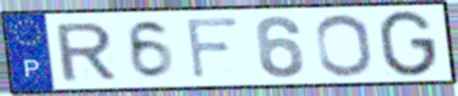6: (252, 14, 305, 80), (124, 19, 177, 80)
F: (183, 15, 242, 82)
G: (377, 9, 439, 79)
O: (313, 12, 376, 78)
R: (52, 20, 119, 83)
